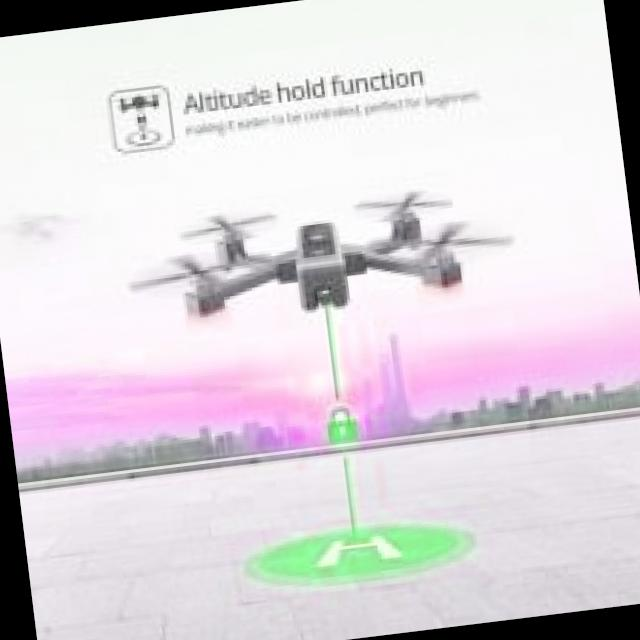drone: (117, 162, 511, 356)
